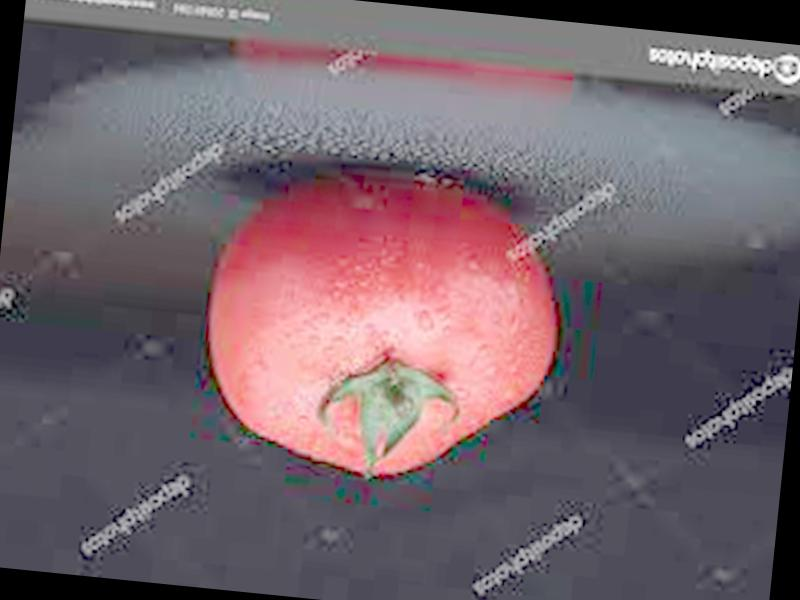Tomato: (193, 159, 570, 494)
